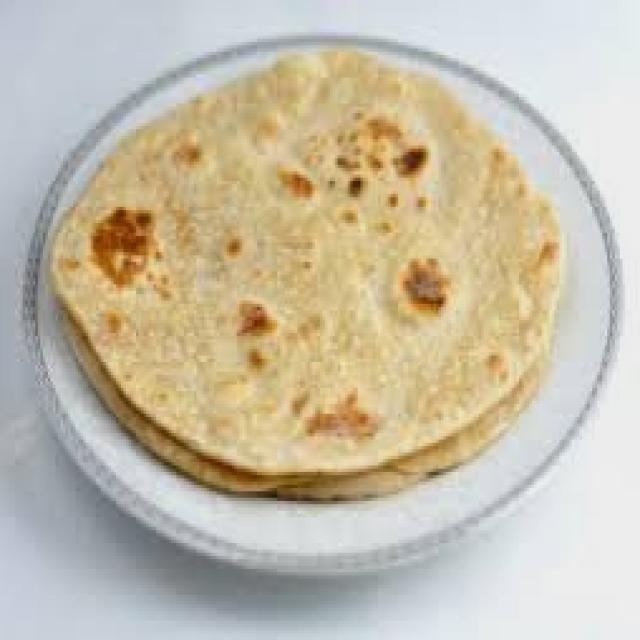chapathi: (48, 46, 567, 506)
